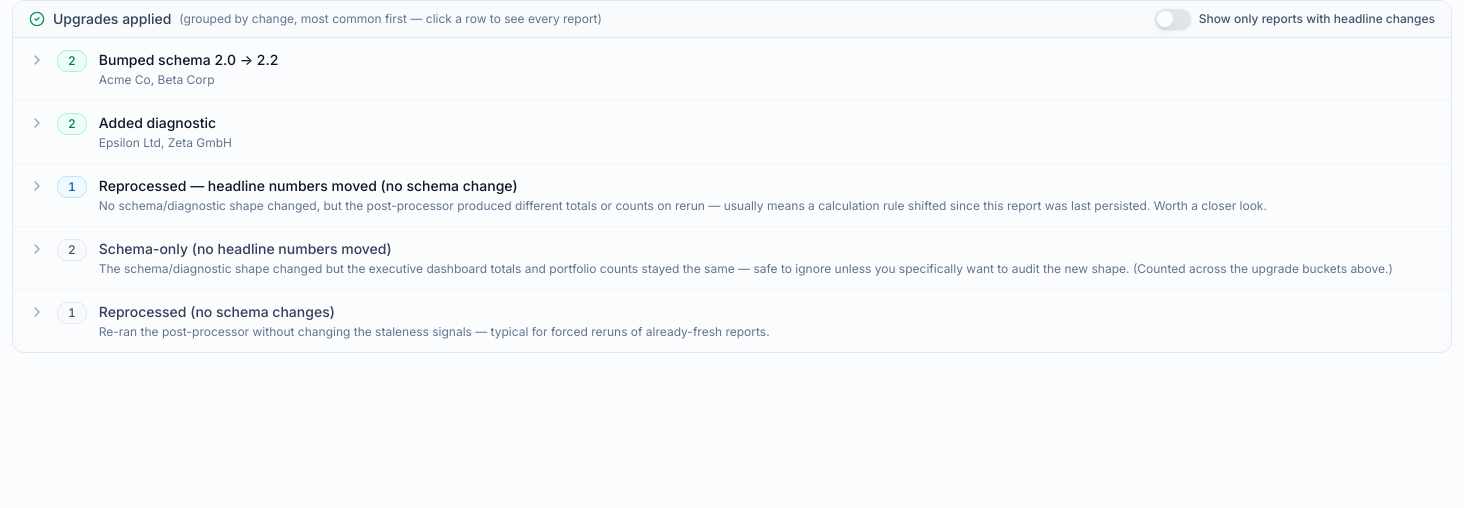
Scenario: UpgradesAppliedPanel — Copy IDs buttons › reveals button-copy-ids-upgrade-schema-only when the schema-only bucket expands
This screenshot has width=1464, height=508.
Click the button that starts with "Schema-only (no headline numbers moved)". click: click(732, 258)
box: [13,227,1451,289]
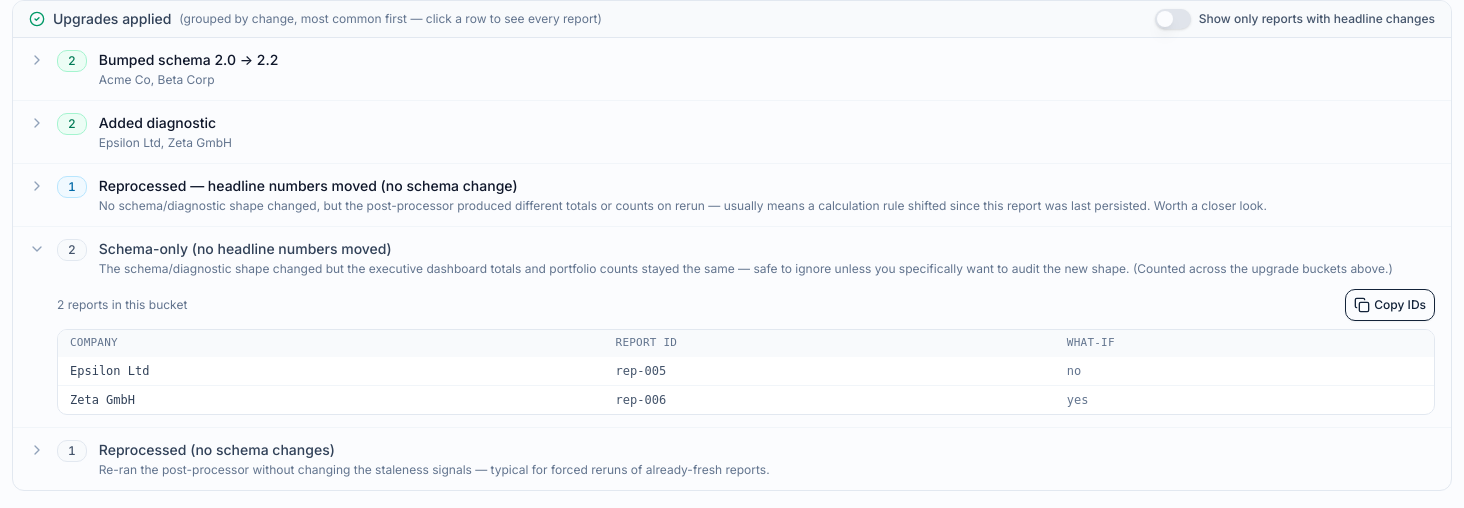
Expected: the button "Copy IDs" is shown, [1345,289,1435,321]
